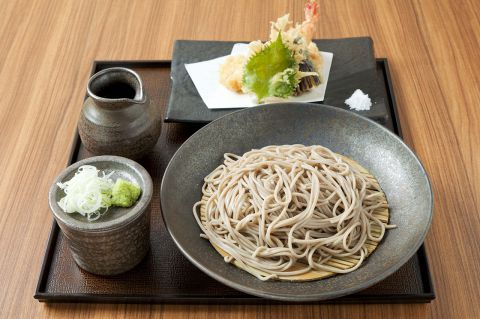Soba: (203, 142, 391, 275)
